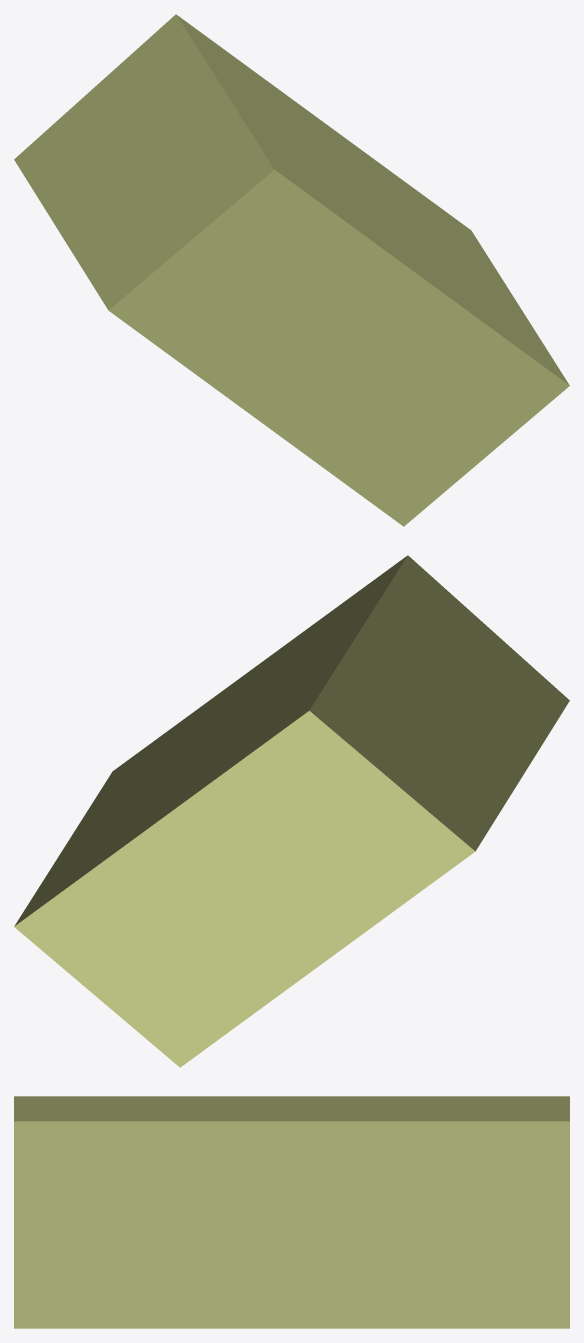
3 renders of one model, top to bottom at view 1: azimuth 30°, elevation 25°; view 2: azimuth 150°, elevation 25°; view 3: azimuth 270°, elevation 25°, orthographic. The views are drawn at different scales.
Visible parts, largest first — view 1: 0_1_1_3_2_2_3_3_1_3_3_1_0; view 2: 0_1_1_3_2_2_3_3_1_3_3_1_0; view 3: 0_1_1_3_2_2_3_3_1_3_3_1_0.
Boxes of the visible parts, box(x1,y1,x2,y2) form: 0_1_1_3_2_2_3_3_1_3_3_1_0: box(14, 14, 569, 526); 0_1_1_3_2_2_3_3_1_3_3_1_0: box(14, 555, 569, 1067); 0_1_1_3_2_2_3_3_1_3_3_1_0: box(14, 1096, 569, 1328).
Bounding box in the file's own units: 3.06 × 3.14 × 6.
